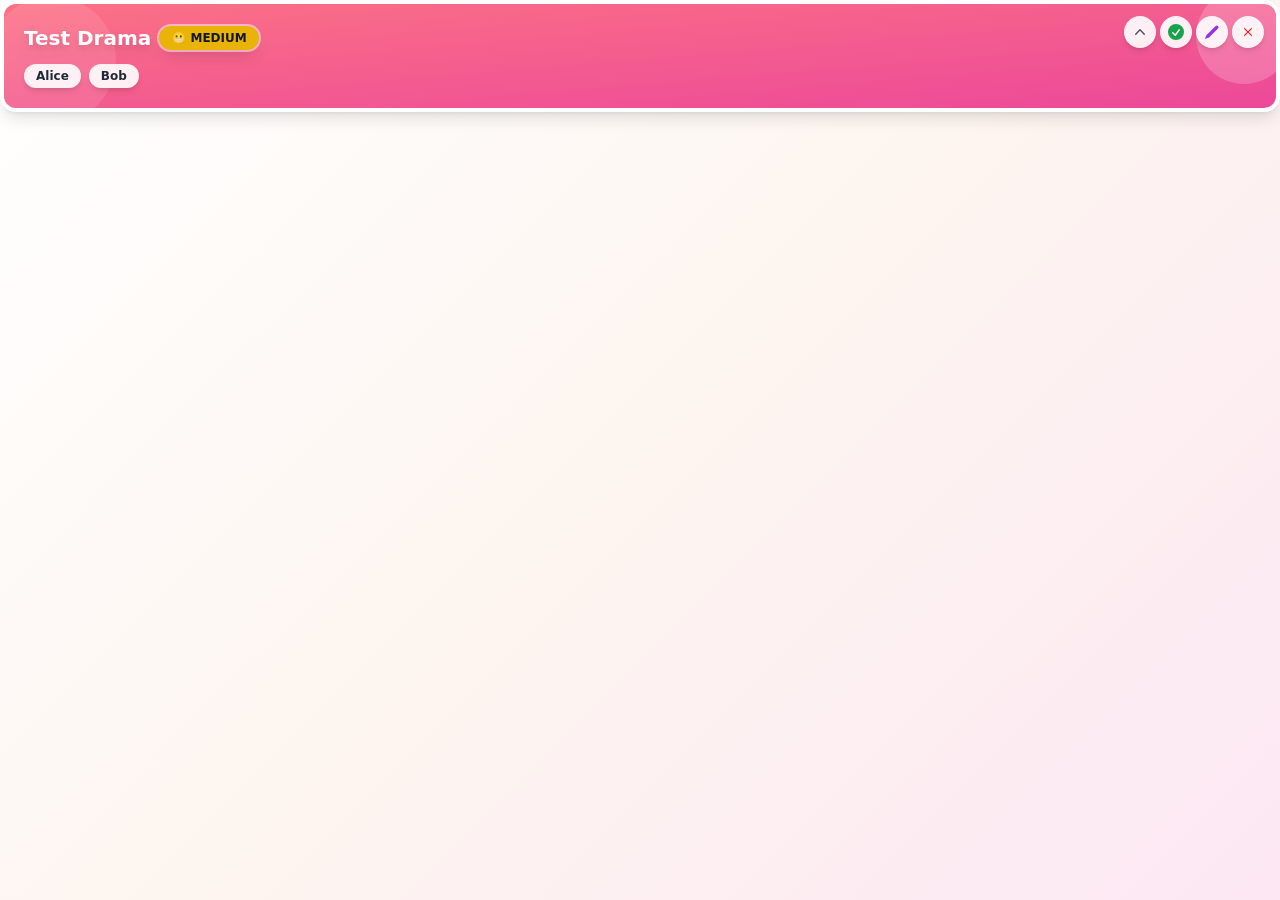
Scenario: DramaCard › should show details when expanded via toggle button
Click the button titled "Expand" at x=1140, y=32, box [1124,16,1156,48]
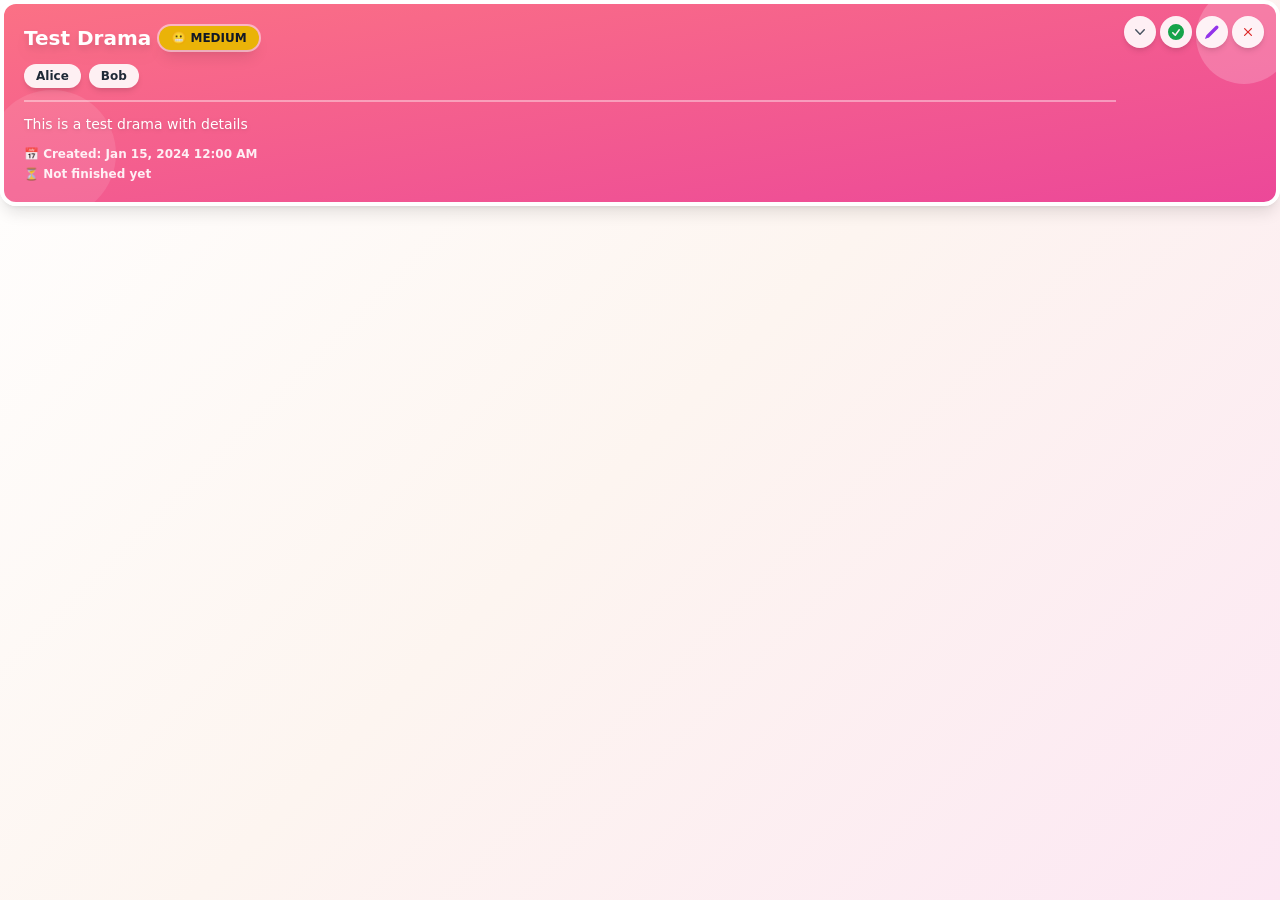
expect the text "This is a test drama with details" is shown: met, box [24,116,248,132]
